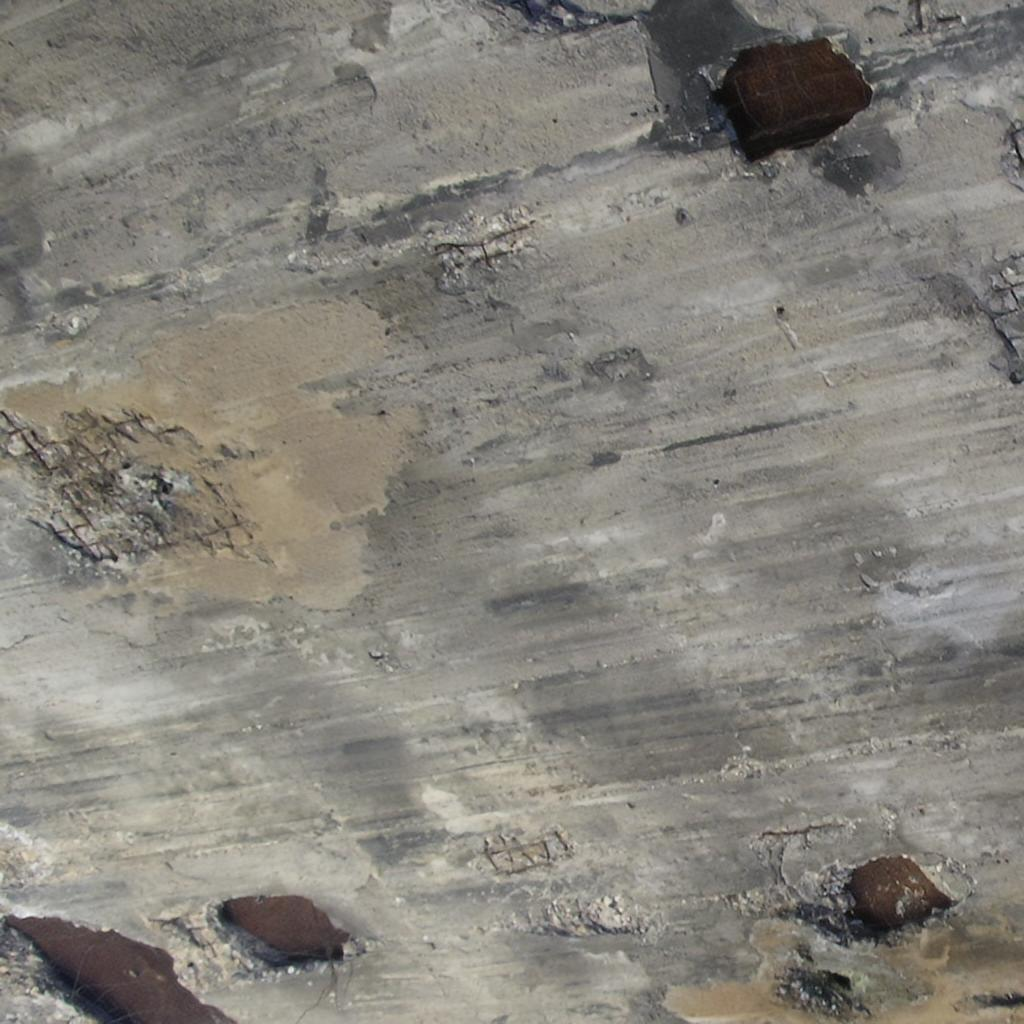exposed_rebar: (8, 917, 236, 1024), (718, 38, 872, 161), (222, 896, 350, 957), (848, 856, 952, 928)
spalling: (0, 300, 418, 602)
